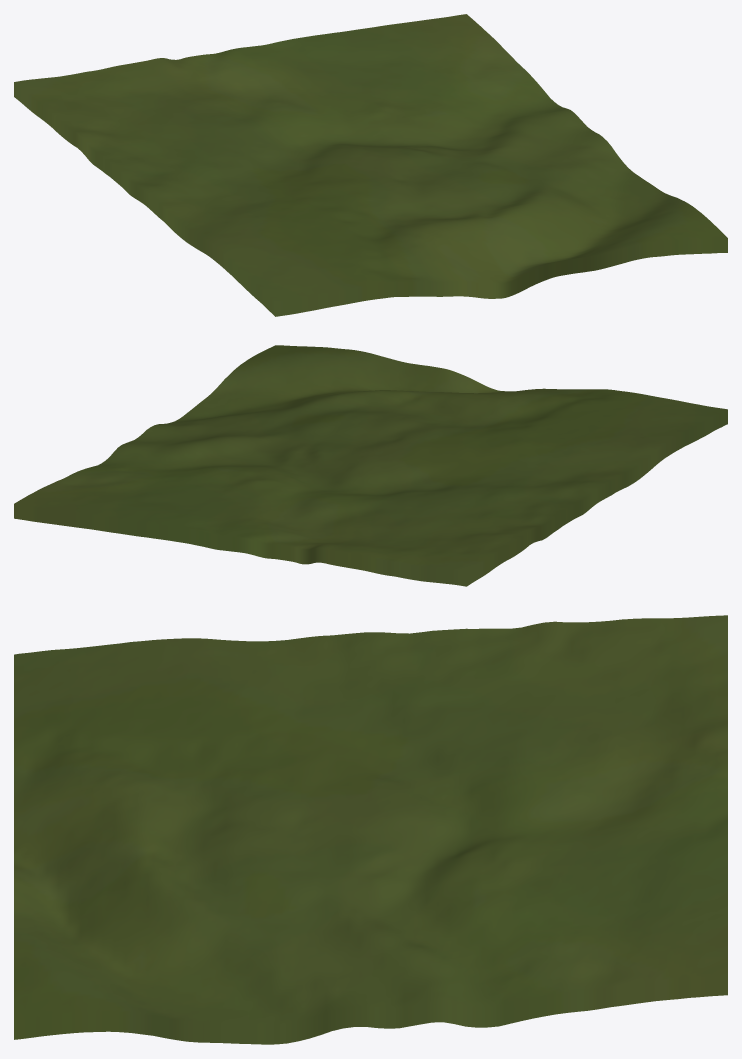
File: terrain_7_-9.glb
The picture shows the model from 3 angles, top to bottom: view 1: azimuth 30°, elevation 25°; view 2: azimuth 150°, elevation 25°; view 3: azimuth 270°, elevation 25°; orthographic projection. The views are drawn at different scales.
Parts seen in each view (by area): view 1: terrain_7_-9; view 2: terrain_7_-9; view 3: terrain_7_-9.
Boxes of the visible parts, x1,y1,x2,y2 form: terrain_7_-9: (14,14,727,316); terrain_7_-9: (14,345,727,586); terrain_7_-9: (14,615,727,1044).
Size of the model in its own units: 256 by 50.45 by 256.
